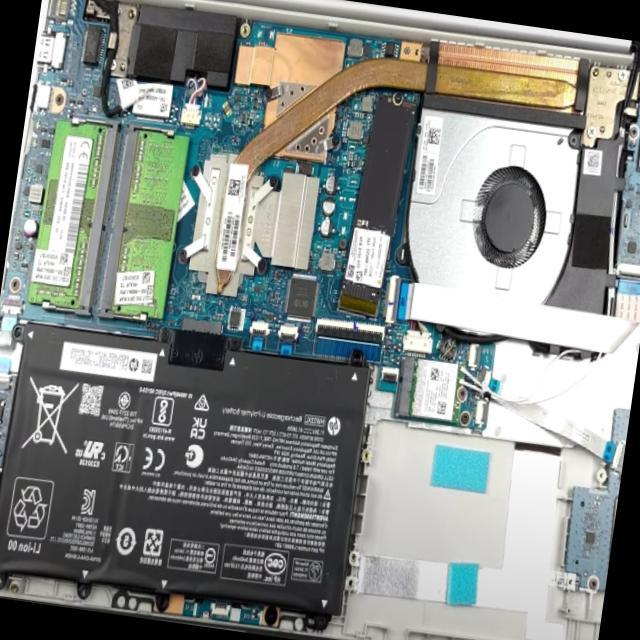Battery: (342, 96, 418, 304)
RAM: (0, 349, 353, 619)
SSD: (588, 126, 598, 139), (460, 414, 469, 426)
Screw: (24, 108, 121, 316), (100, 123, 192, 327)
